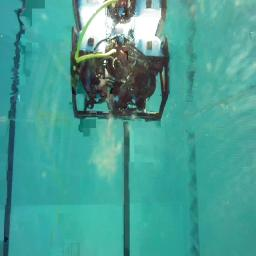back: (68, 30, 170, 125)
